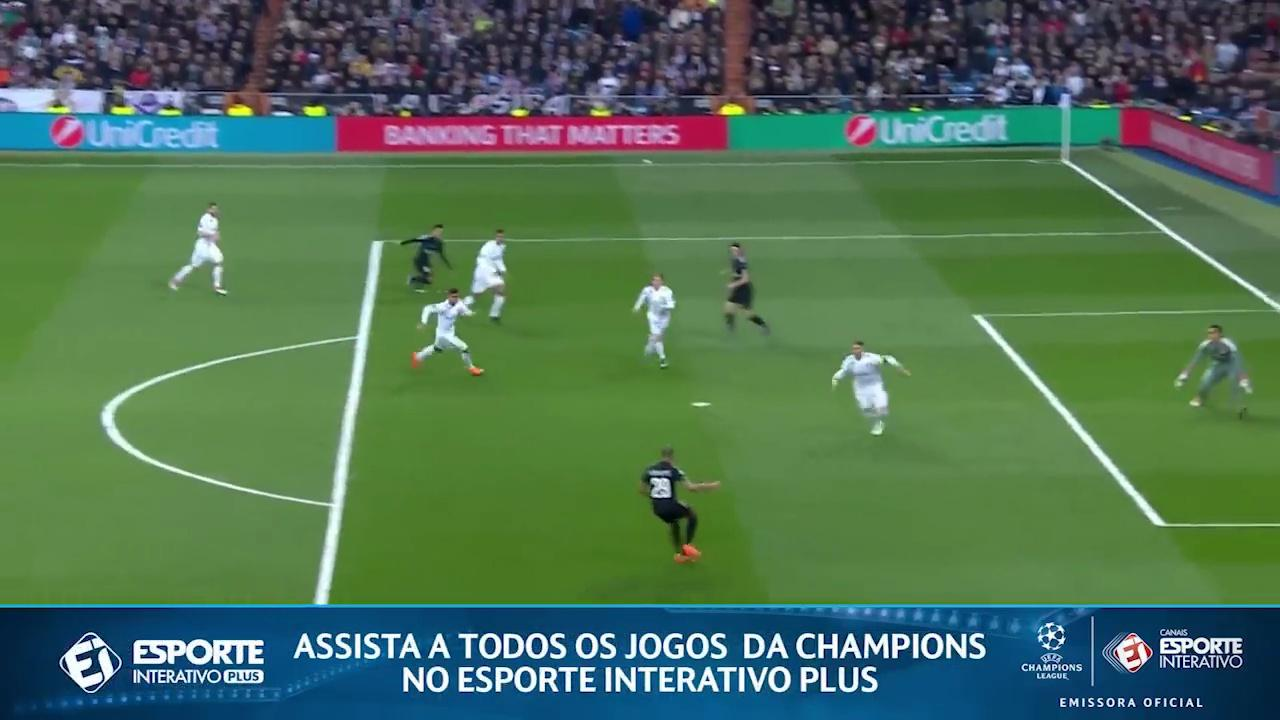player: (640, 446, 719, 562), (831, 341, 909, 435), (1175, 324, 1250, 417), (412, 289, 483, 375), (169, 203, 227, 296), (724, 242, 769, 334), (633, 274, 675, 368), (464, 229, 506, 323), (399, 223, 451, 292)
